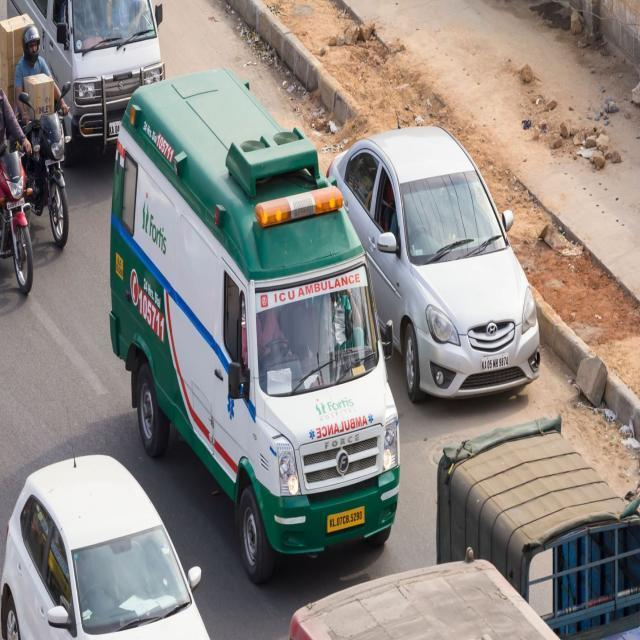Ambulance: (105, 66, 403, 585)
bike: (10, 24, 73, 214)
car: (323, 123, 543, 406), (0, 451, 212, 638)
van: (4, 0, 167, 163)
